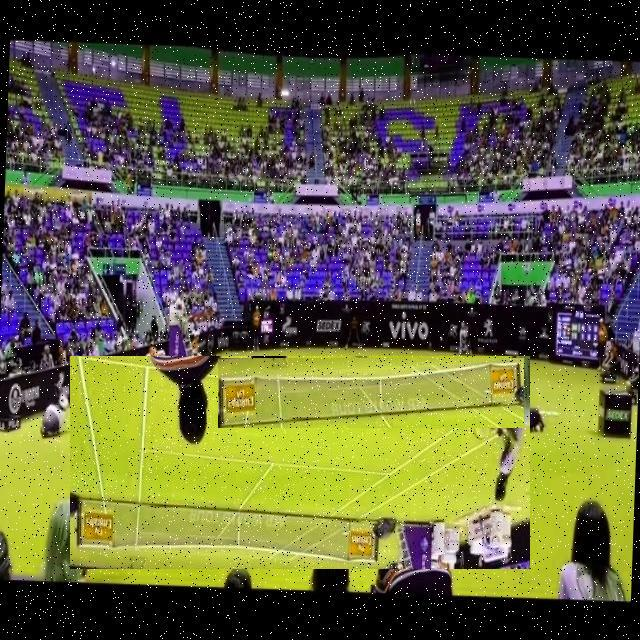court: (70, 356, 530, 569)
net: (218, 358, 524, 428)
player: (70, 421, 129, 583)
